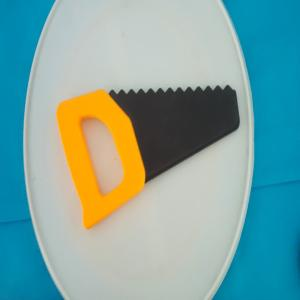serrote: (56, 85, 240, 231)
